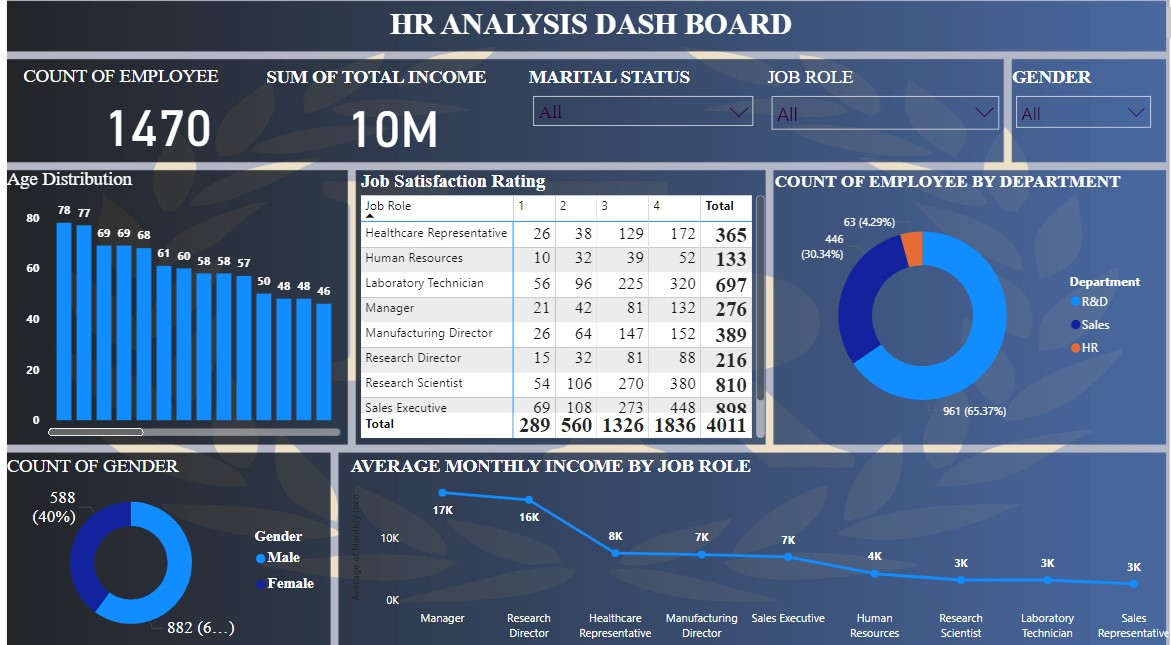

This screenshot's page, from the dashboard's own definition file:
{"tool":"powerbi","page":{"name":"Page 1","canvas":[1280,720],"ordinal":0},"visuals":[{"type":"image","box":[10,0,1270,720],"z":0},{"type":"pivotTable","title":"Job Satisfaction Rating ","fields":{"Rows":["Table1.Job Role"],"Columns":["Table1.Job Satisfaction"],"Values":["Sum(Table1.Job Satisfaction)"]},"box":[392,194,446,294],"z":1000},{"type":"columnChart","title":"Age Distribution","fields":{"Category":["Table1.Age"],"Y":["Sum(Table1.Employee Count)"]},"box":[10,193.3,370,293.3],"z":2000},{"type":"textbox","box":[27.5,12.5,1252.5,45],"z":3000},{"type":"card","title":"COUNT OF EMPLOYEE","fields":{"Values":["Sum(Table1.Employee Count)"]},"box":[28.3,81.7,300,100],"z":4000},{"type":"slicer","title":"JOB ROLE","fields":{"Values":["Table1.Job Role"]},"box":[830,82.5,265,100],"z":5000},{"type":"donutChart","title":"COUNT OF EMPLOYEE BY DEPARTMENT ","fields":{"Category":["Table1.Department"],"Y":["Sum(Table1.Employee Count)"]},"box":[838.3,196.7,421.7,290],"z":6000},{"type":"lineChart","title":"AVERAGE MONTHLY INCOME BY JOB ROLE","fields":{"Y":["Avg(Table1.Monthly Income)"],"Category":["Table1.Job Role"]},"box":[380,502.5,900,207.5],"z":7000},{"type":"slicer","title":"GENDER ","fields":{"Values":["Table1.Gender"]},"box":[1095,82.5,165,100],"z":8000},{"type":"card","title":"SUM OF TOTAL INCOME","fields":{"Values":["Sum(Table1.Monthly Income)"]},"box":[290,82.5,282.5,100],"z":9000},{"type":"slicer","title":"MARITAL STATUS","fields":{"Values":["Table1.Marital Status"]},"box":[572.5,82.5,257.5,100],"z":10000},{"type":"donutChart","title":"COUNT OF GENDER","fields":{"Y":["CountNonNull(Table1.Gender)"],"Category":["Table1.Gender"]},"box":[10,502.5,352.5,210],"z":11000}]}

Visuals, with their boxes in screenshot pixels (x1, y1, x2, y2), scaled from the page's 1280x720 canvas onto the 1171x645 screenshot:
image: <region>9, 0, 1170, 644</region>
"Job Satisfaction Rating " pivotTable: <region>359, 174, 767, 437</region>
"Age Distribution" columnChart: <region>9, 173, 348, 436</region>
textbox: <region>25, 11, 1170, 52</region>
"COUNT OF EMPLOYEE" card: <region>26, 73, 300, 163</region>
"JOB ROLE" slicer: <region>759, 74, 1002, 163</region>
"COUNT OF EMPLOYEE BY DEPARTMENT " donutChart: <region>767, 176, 1153, 436</region>
"AVERAGE MONTHLY INCOME BY JOB ROLE" lineChart: <region>348, 450, 1170, 636</region>
"GENDER " slicer: <region>1002, 74, 1153, 163</region>
"SUM OF TOTAL INCOME" card: <region>265, 74, 524, 163</region>
"MARITAL STATUS" slicer: <region>524, 74, 759, 163</region>
"COUNT OF GENDER" donutChart: <region>9, 450, 332, 638</region>
